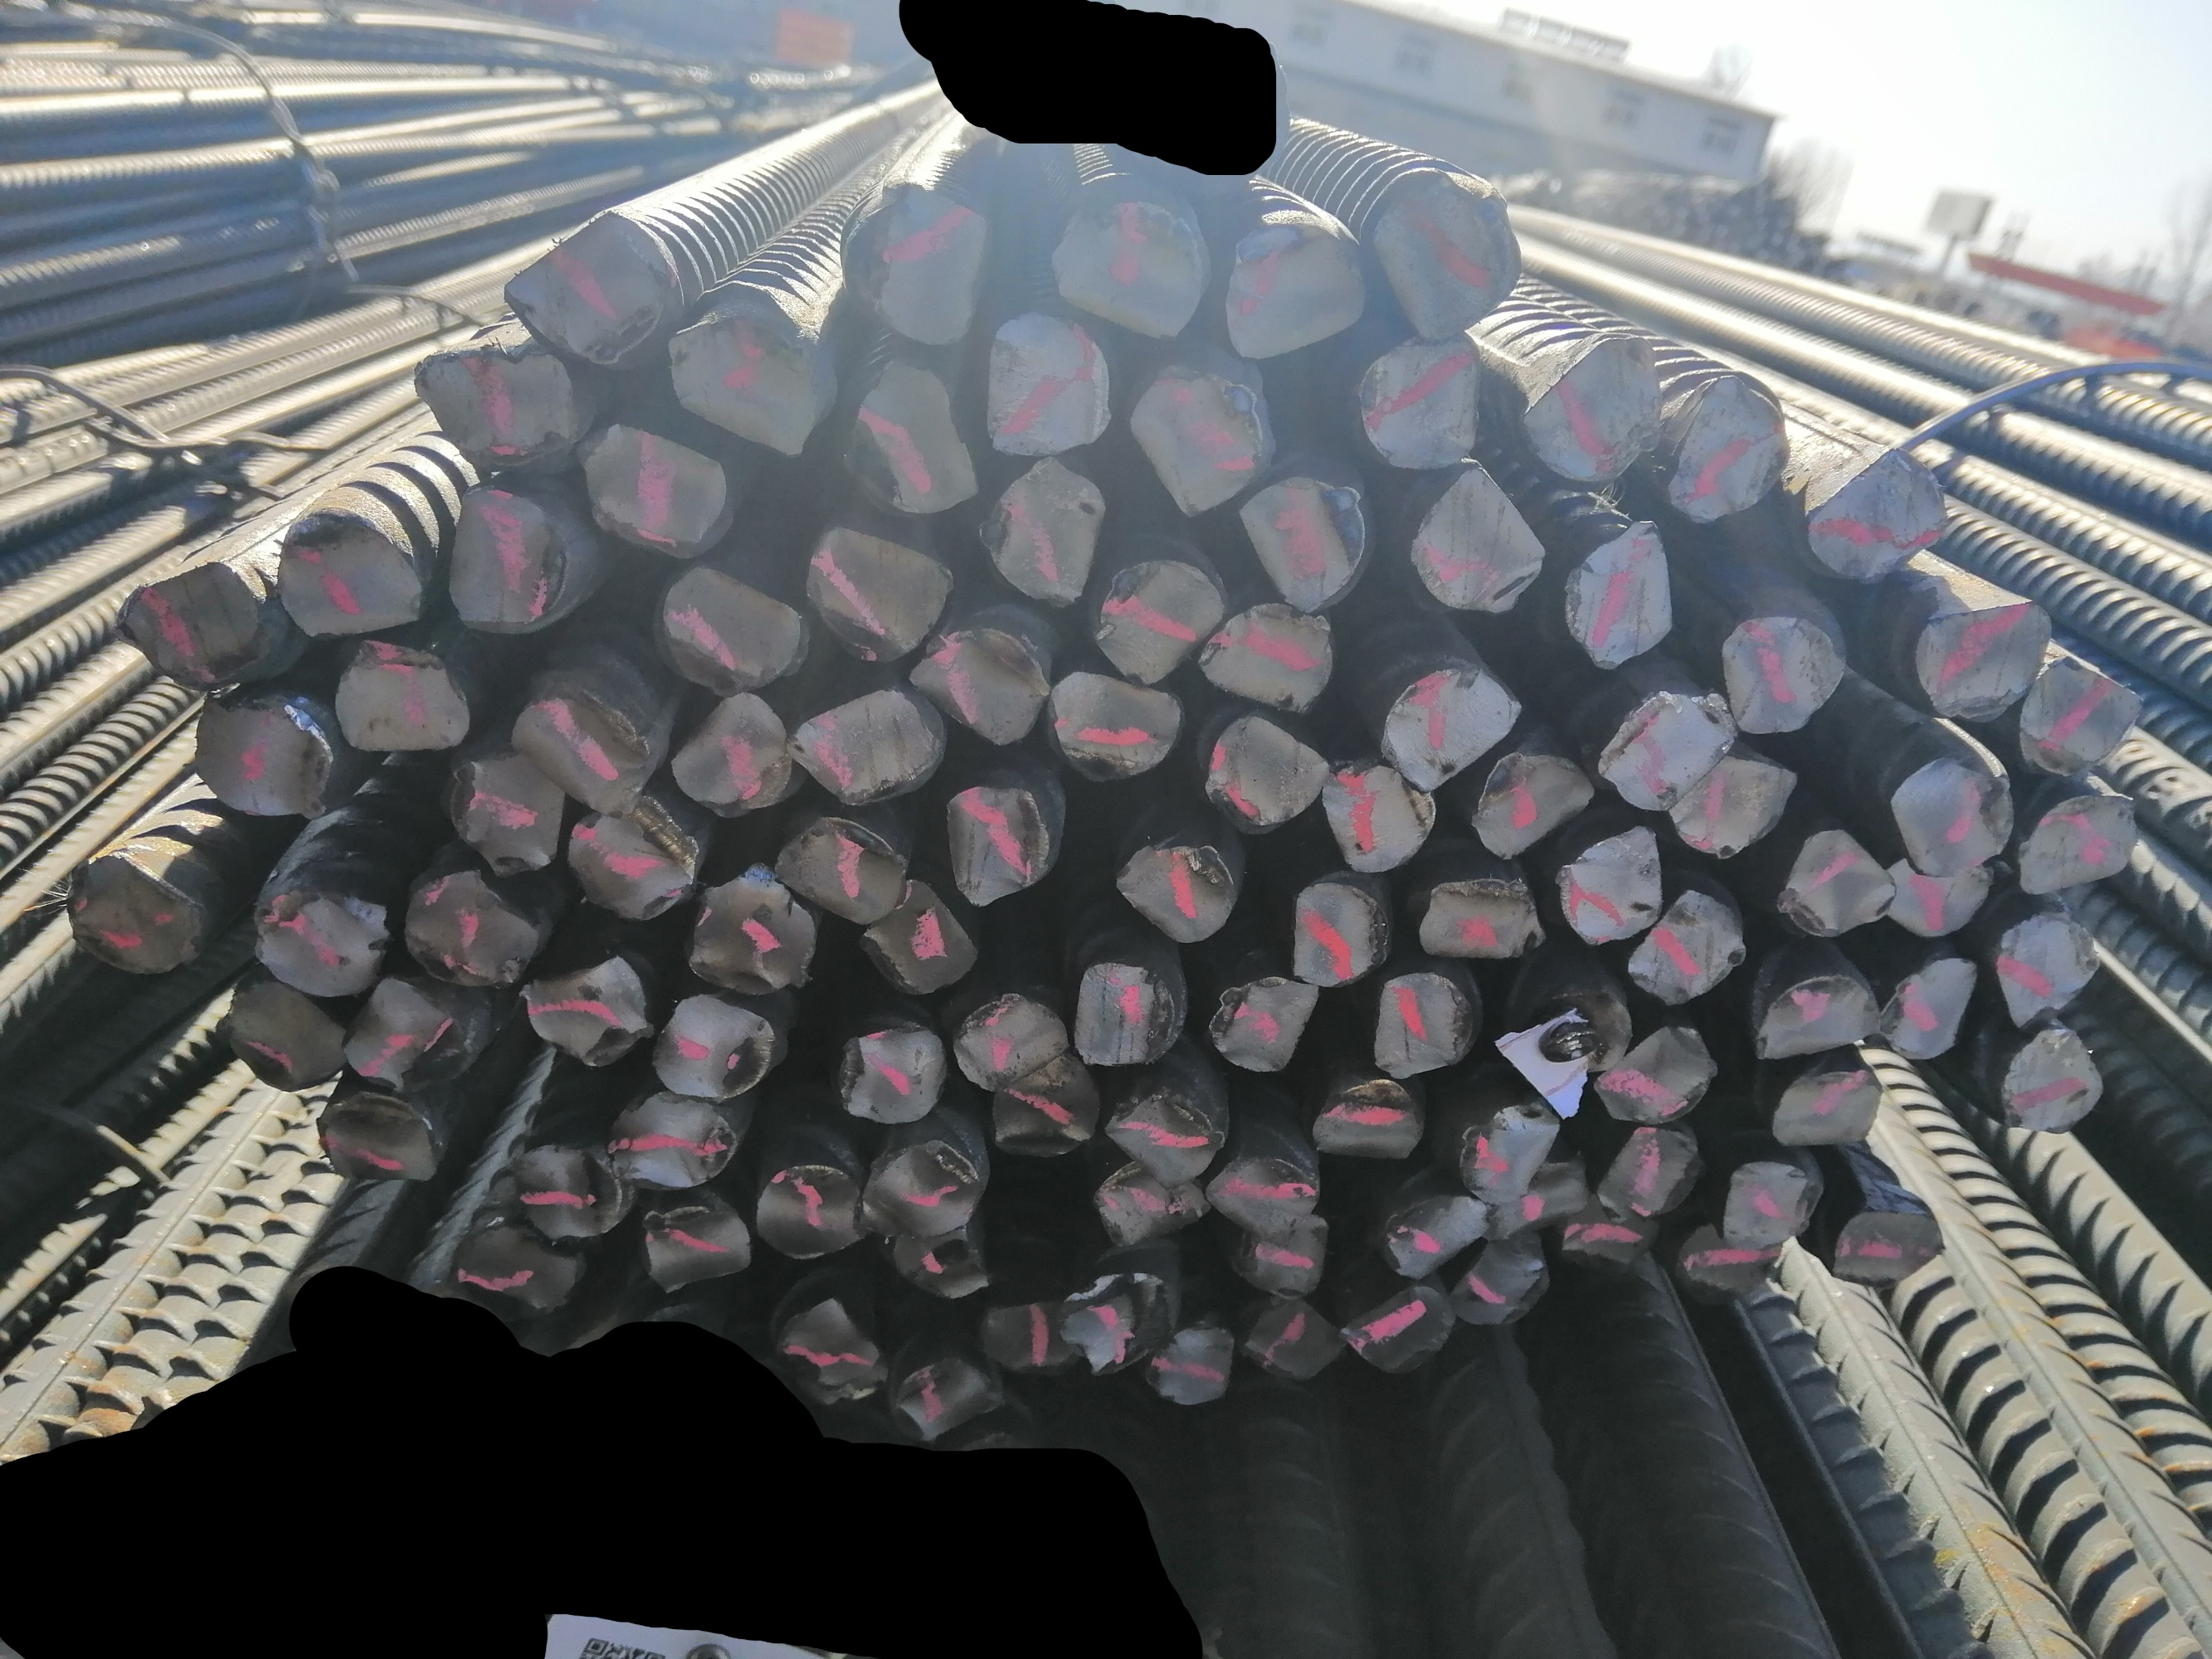rebar: (657, 301, 844, 448), (828, 352, 983, 526), (1365, 171, 1520, 345), (502, 207, 671, 366), (840, 181, 992, 354), (1131, 352, 1278, 521), (797, 516, 957, 664), (1522, 335, 1663, 500), (1055, 188, 1208, 336), (1795, 443, 1951, 589), (570, 415, 729, 554), (1349, 321, 1487, 481), (408, 335, 573, 467), (1656, 369, 1790, 532), (1218, 216, 1365, 364), (277, 505, 429, 648), (973, 312, 1116, 462), (113, 558, 274, 688), (1407, 467, 1544, 619), (1910, 584, 2060, 721), (908, 620, 1060, 755), (1081, 551, 1229, 687), (784, 673, 934, 807), (326, 636, 478, 767), (1602, 681, 1741, 823), (1377, 660, 1523, 795), (981, 450, 1103, 610), (185, 692, 331, 824), (1555, 511, 1677, 669), (443, 483, 568, 636), (246, 873, 396, 1000), (655, 563, 807, 688), (1236, 467, 1367, 612), (680, 868, 824, 999), (63, 854, 204, 985), (666, 688, 805, 817), (509, 692, 654, 814), (1191, 596, 1337, 716), (2013, 641, 2142, 777), (521, 948, 654, 1079), (1717, 608, 1849, 739), (643, 985, 779, 1112), (439, 744, 563, 884), (1037, 662, 1180, 782), (556, 798, 692, 924), (933, 777, 1056, 913), (2015, 779, 2146, 906), (397, 866, 539, 983), (1199, 711, 1327, 840), (1884, 749, 2013, 877), (777, 810, 913, 929), (1625, 884, 1752, 1007), (852, 875, 971, 1006), (335, 976, 471, 1089), (218, 983, 352, 1096), (1123, 823, 1239, 951), (600, 1086, 739, 1192), (1668, 744, 1799, 857), (1471, 744, 1595, 863), (1989, 904, 2104, 1030), (457, 1215, 591, 1321), (1455, 1096, 1560, 1230), (310, 1082, 443, 1187), (987, 1053, 1105, 1169), (1102, 1077, 1227, 1187), (1051, 1258, 1166, 1377), (774, 1288, 885, 1410), (1074, 957, 1184, 1080), (1588, 1019, 1717, 1124), (1327, 758, 1442, 875), (1778, 823, 1891, 939), (1992, 1028, 2111, 1140), (1562, 824, 1670, 946), (950, 988, 1072, 1094), (631, 1192, 755, 1297), (1870, 946, 1975, 1068), (1745, 960, 1877, 1056), (865, 1138, 980, 1246), (835, 1021, 950, 1129), (1365, 965, 1471, 1082), (1213, 967, 1321, 1080), (887, 1349, 1008, 1450), (1302, 1073, 1433, 1166), (516, 1140, 629, 1246), (1417, 870, 1539, 967), (1278, 877, 1386, 986), (1771, 1060, 1886, 1162), (1340, 1279, 1459, 1378), (1234, 1283, 1347, 1385), (1440, 1227, 1555, 1328), (1086, 1154, 1213, 1244), (1517, 976, 1639, 1070), (755, 1162, 868, 1263), (1204, 1138, 1320, 1236), (1886, 840, 1996, 941), (1715, 1152, 1830, 1248), (1832, 1202, 1949, 1295), (1381, 1185, 1499, 1276), (1602, 1126, 1706, 1227), (882, 1218, 1002, 1300), (1227, 1206, 1332, 1298), (973, 1295, 1081, 1384), (1492, 1145, 1597, 1232), (1147, 1317, 1245, 1408), (1673, 1230, 1785, 1302), (1560, 1195, 1656, 1270)
